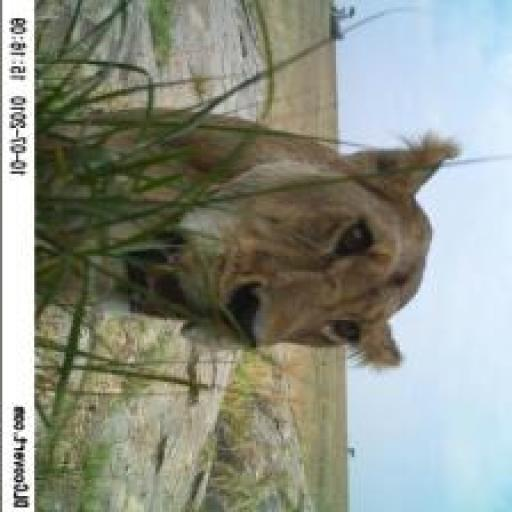lion: (36, 105, 478, 373)
